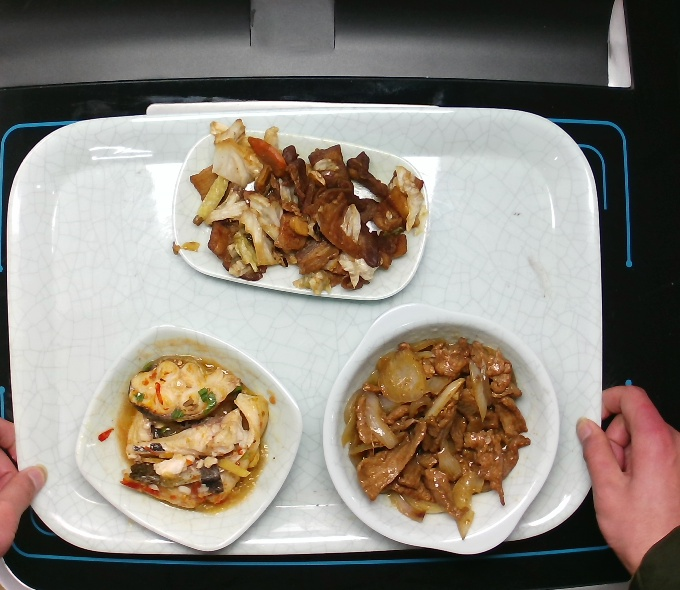wcq-DuoJiaoYuKuai: (112, 351, 268, 512)
wcq-PaoCaiRouPian: (186, 128, 427, 296)
wcq-YangCongRouPian: (344, 339, 526, 519)
